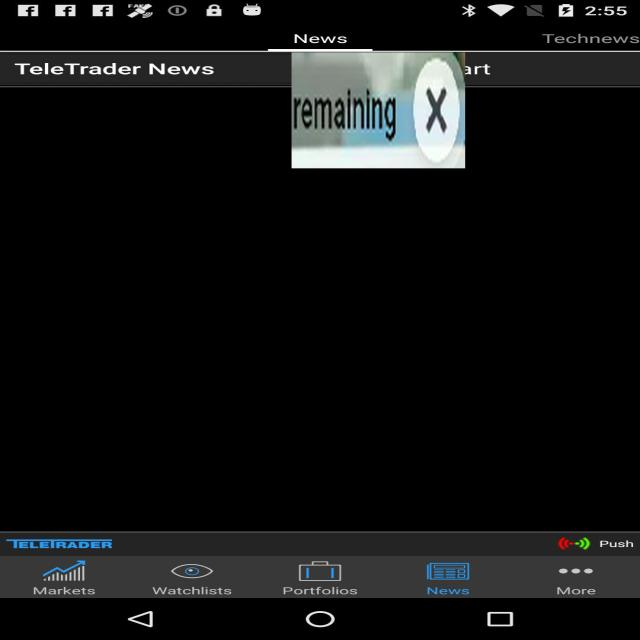misdirection: (292, 53, 465, 168)
